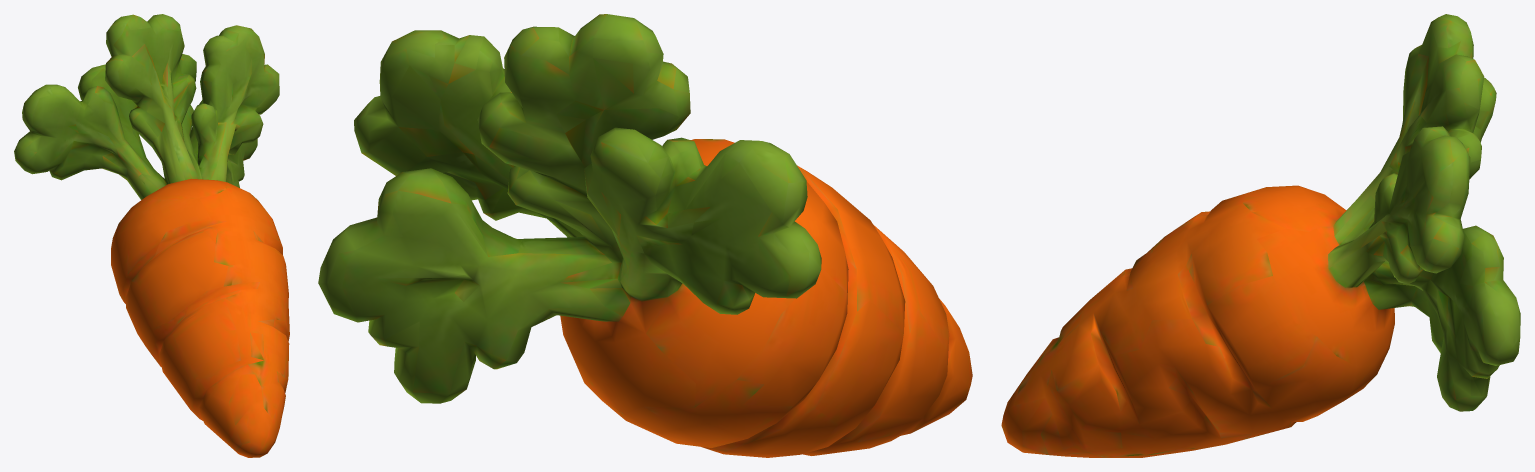
3 renders of one model, left to right at view 1: azimuth 30°, elevation 25°; view 2: azimuth 150°, elevation 25°; view 3: azimuth 270°, elevation 25°, orthographic. The views are drawn at different scales.
Visible parts, largest first — view 1: carrot; view 2: carrot; view 3: carrot.
Part boxes in pixels (<box>): carrot: <box>14,14,289,457</box>; carrot: <box>318,14,972,457</box>; carrot: <box>1001,14,1520,457</box>.
Bounding box in the file's own units: 0.2098 × 0.2503 × 0.2614.
1 material, 1 textured.
